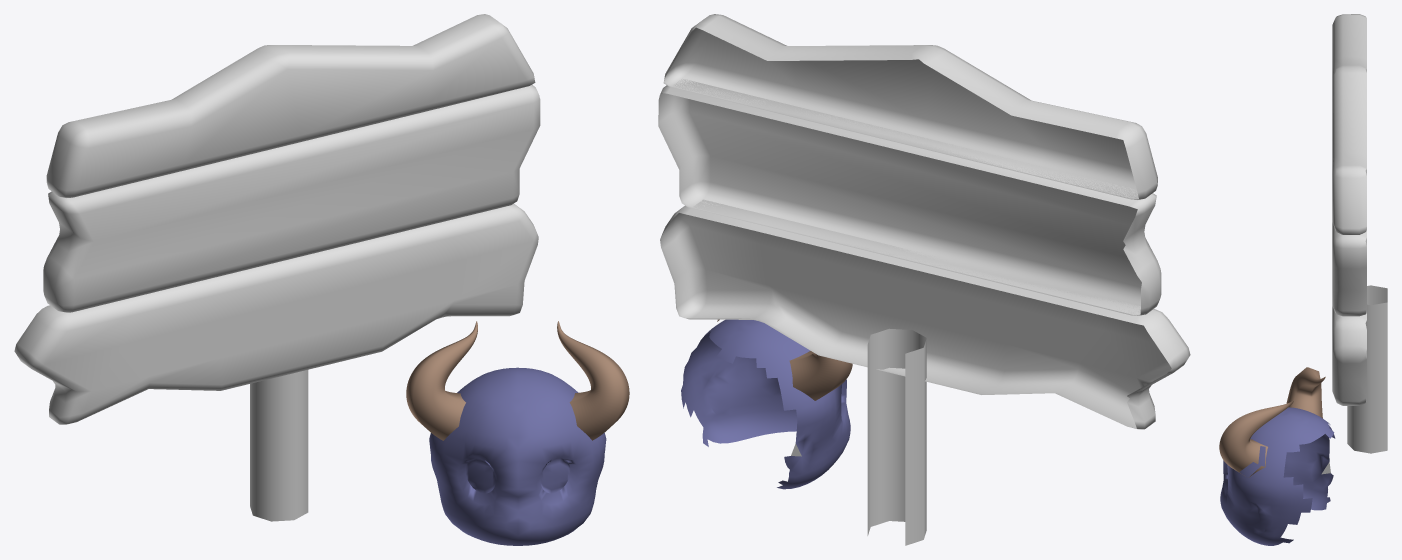
The model's file is Sign.fbx.
The picture shows the model from 3 angles, left to right: view 1: azimuth 30°, elevation 25°; view 2: azimuth 150°, elevation 25°; view 3: azimuth 270°, elevation 25°; orthographic projection. The views are drawn at different scales.
Visible parts, largest first — view 1: Plane.001; view 2: Plane.001; view 3: Plane.001.
Part boxes in pixels (x1,y1,x2,y2): Plane.001: (14,14,629,545); Plane.001: (658,14,1190,545); Plane.001: (1219,14,1387,545).
Bounding box in the file's own units: 0.9147 × 0.8069 × 0.3222.
